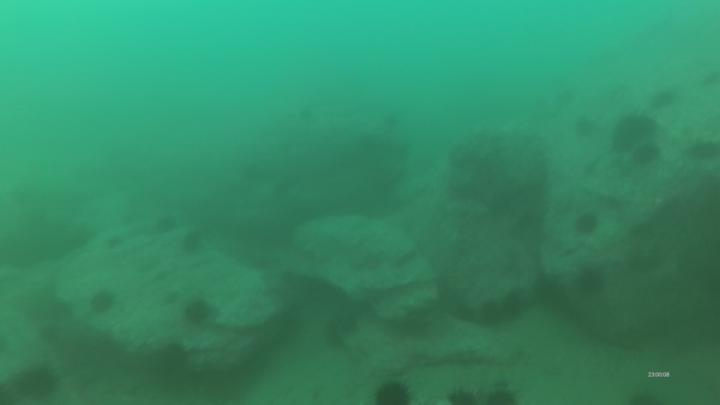echinus: (610, 116, 657, 145), (22, 368, 53, 399), (379, 382, 410, 405), (576, 211, 598, 234), (582, 268, 604, 290), (637, 143, 661, 163), (185, 302, 209, 322), (489, 390, 515, 405), (92, 294, 113, 312), (184, 230, 203, 248), (453, 392, 478, 405), (157, 216, 177, 232), (655, 89, 669, 106), (577, 120, 595, 133)
